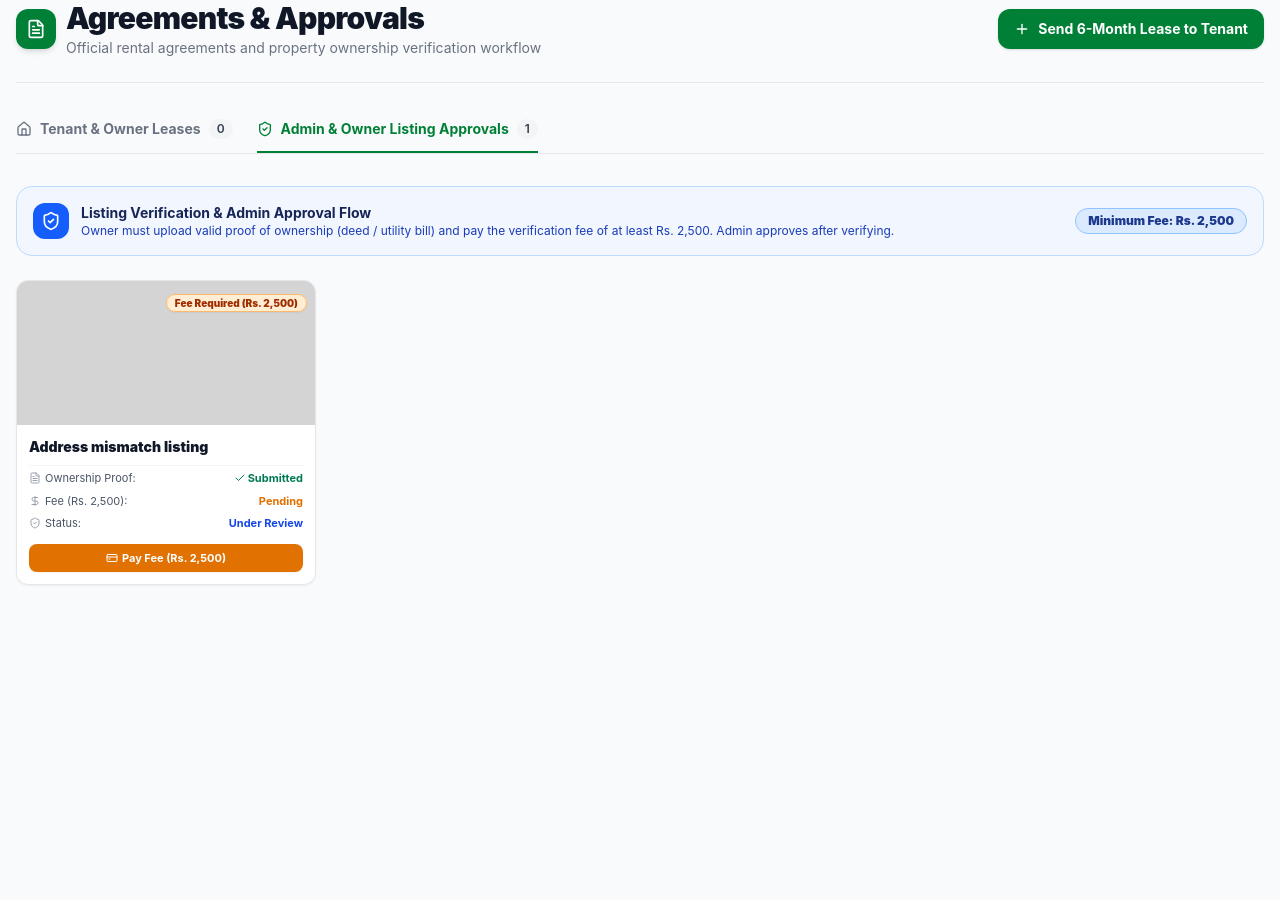
shows an inline error for incomplete checkout without sending a payment
The width and height of the screenshot is (1280, 900).
Step 1. Click the button "Pay Fee (Rs. 2,500)" → click(166, 558), box [29,544,303,572]
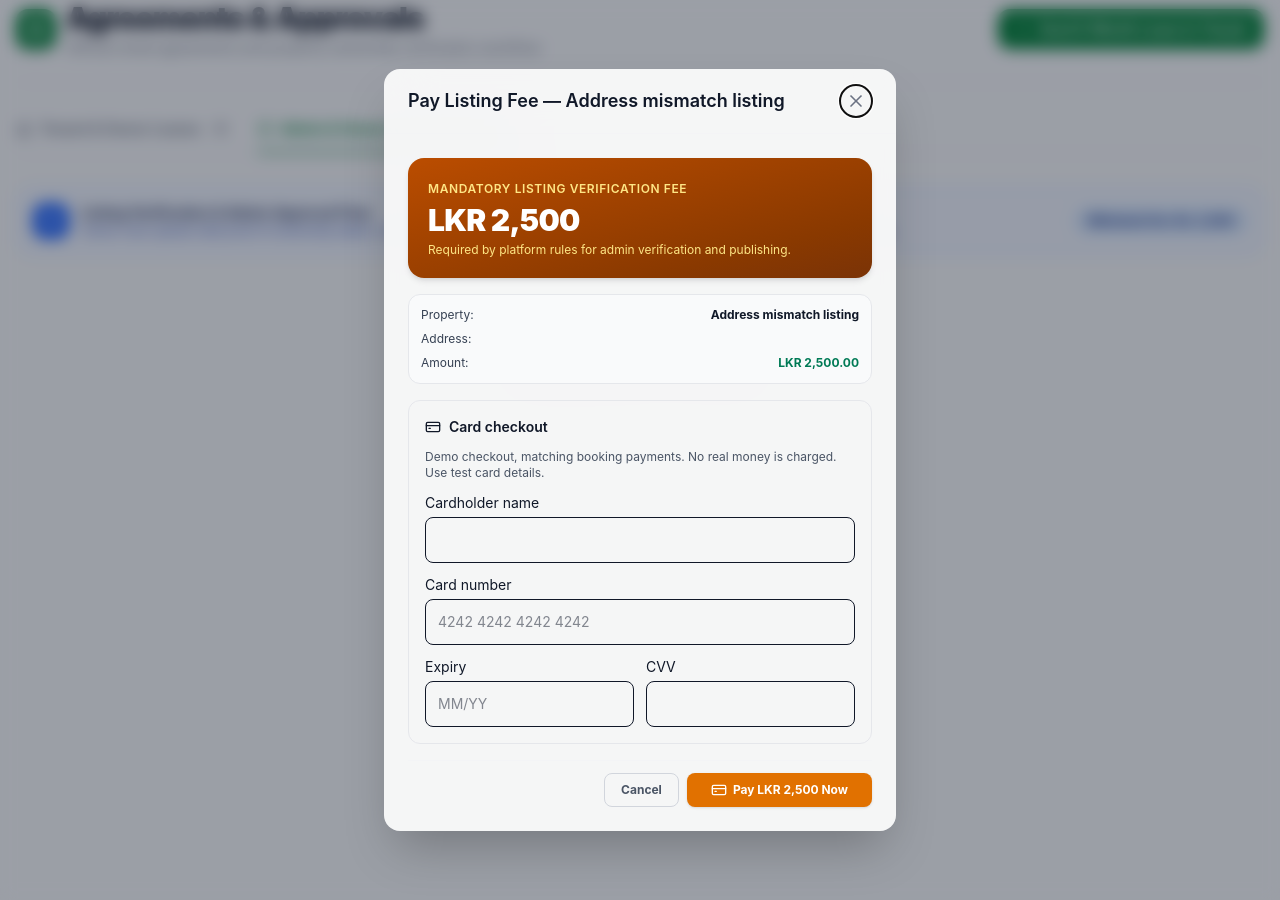
Step 2. Click the button "Pay LKR 2,500 Now" → click(779, 790), box [687,773,872,807]
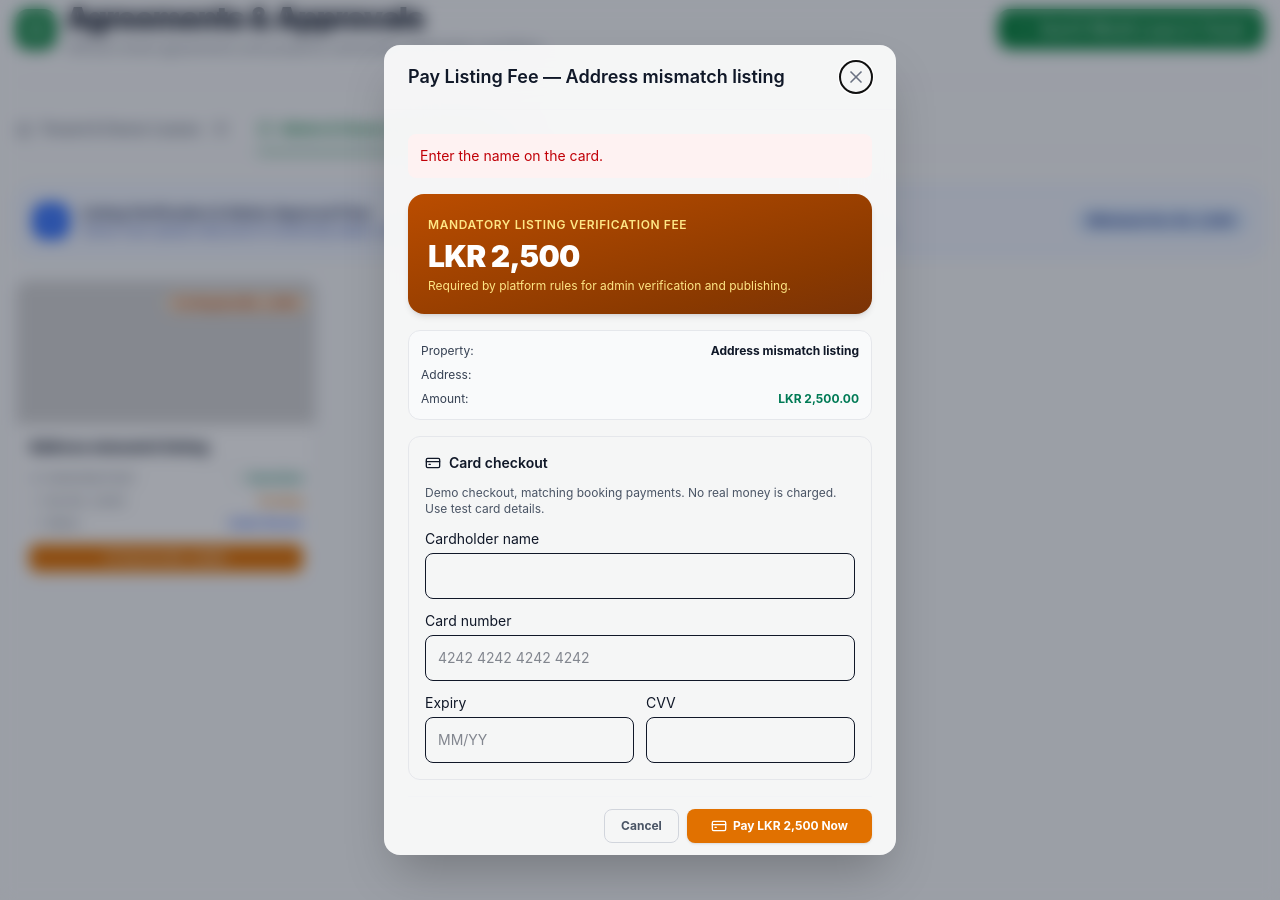
Now the message reads "Enter the name on the card.", box [420,147,603,164]
